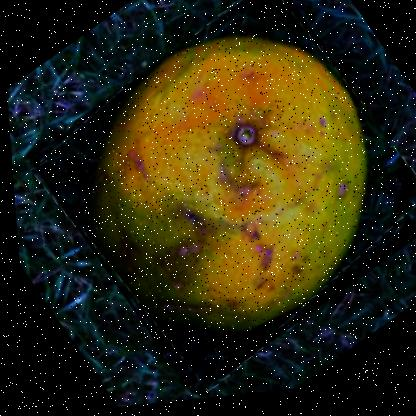orange_rotten: (14, 0, 415, 412)
